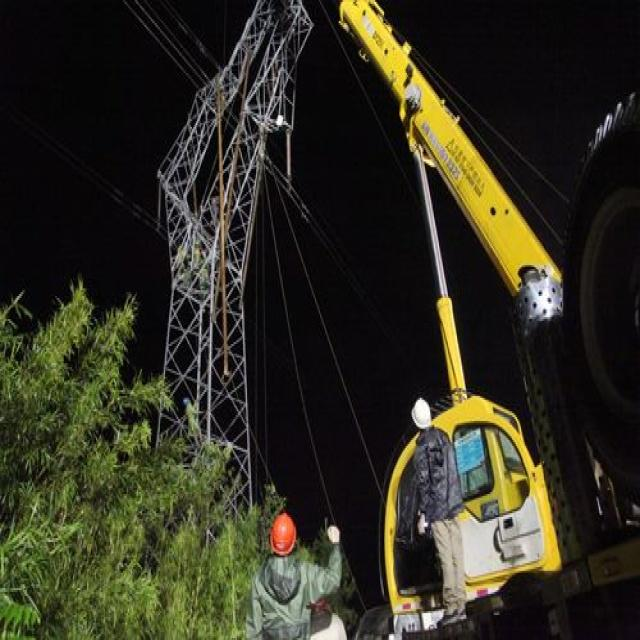helmet: (410, 525, 433, 584)
